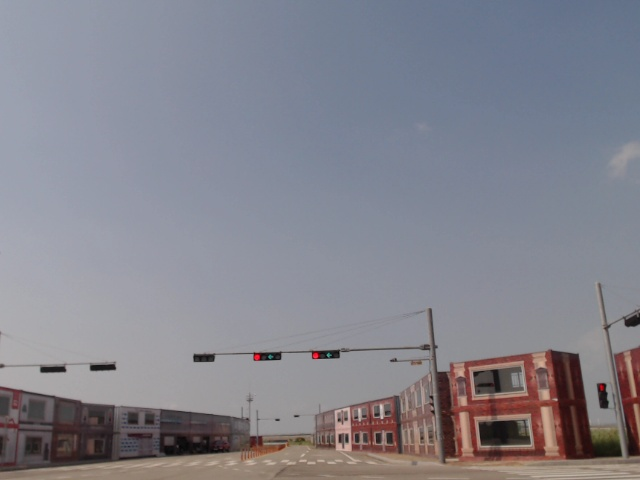left_green_4: (311, 351, 341, 360), (253, 353, 281, 361)
